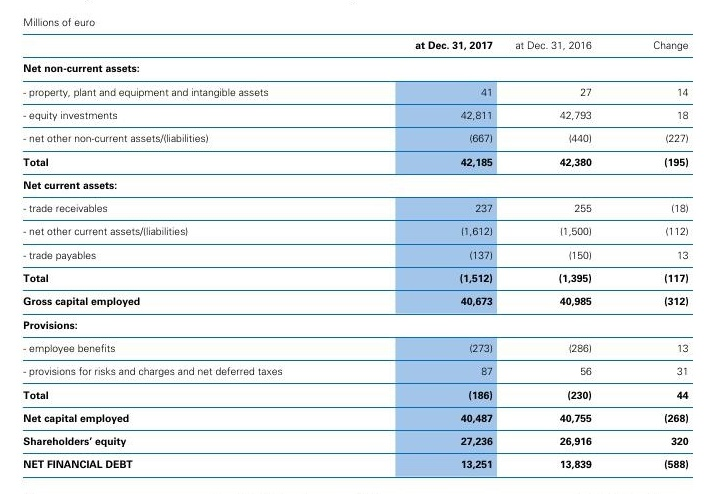table: (0, 0, 713, 494)
